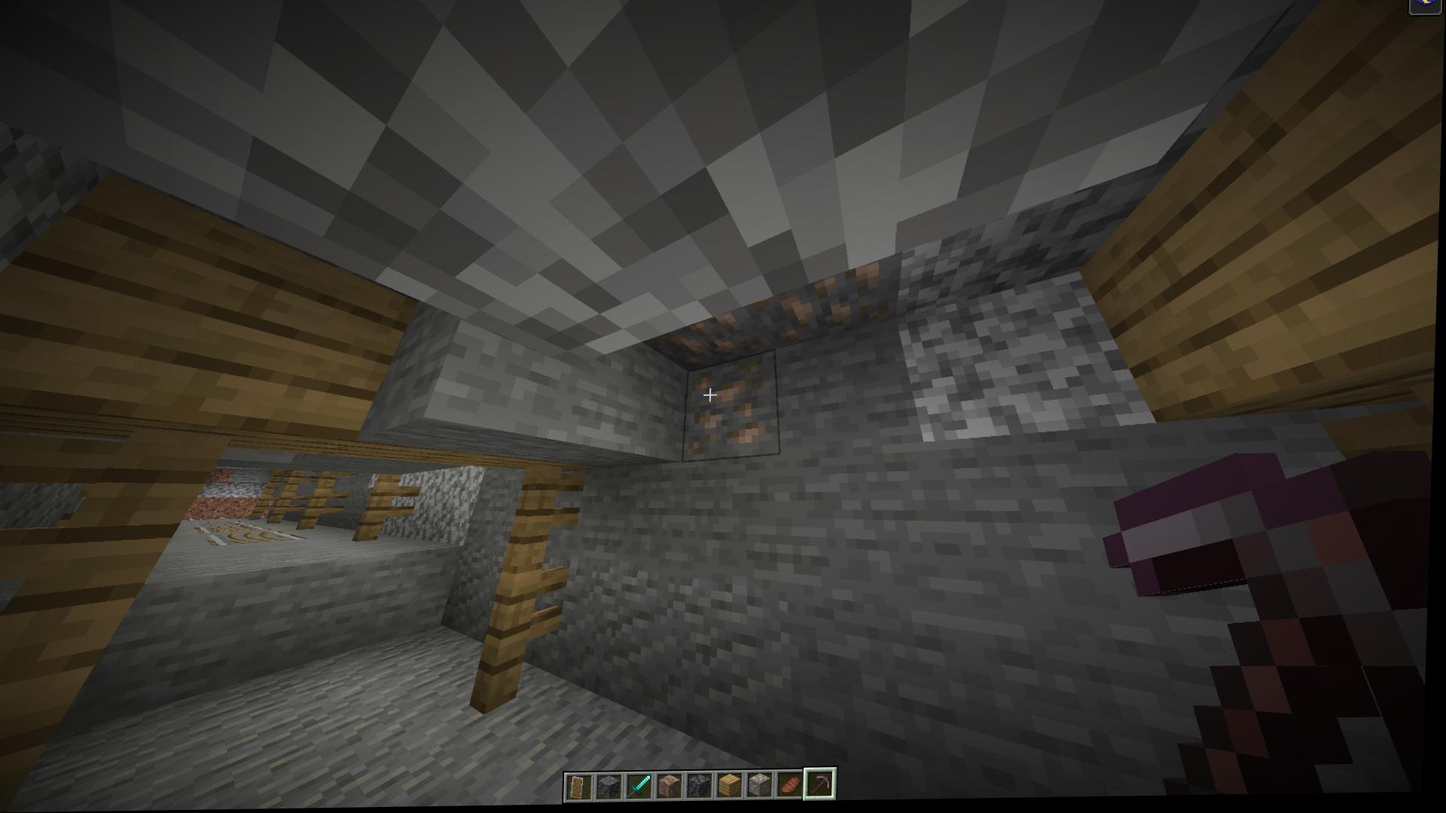iron ore: (768, 264, 907, 343), (691, 364, 778, 456), (664, 315, 763, 370)
